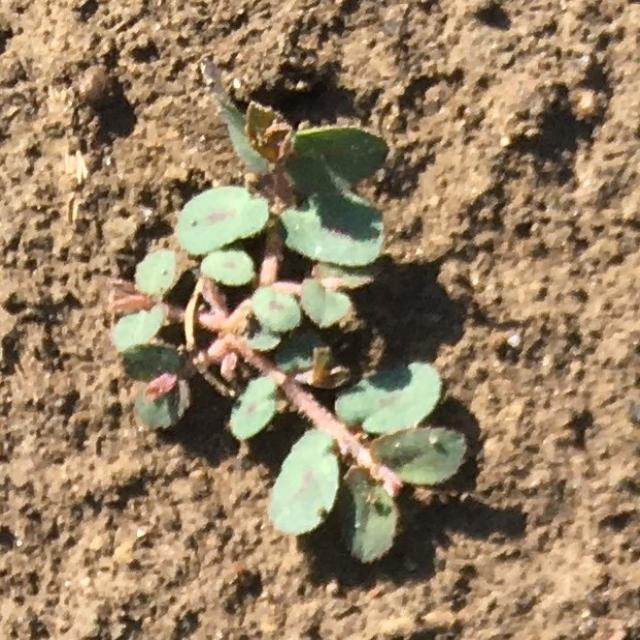SpottedSpurge: (112, 95, 469, 562)
